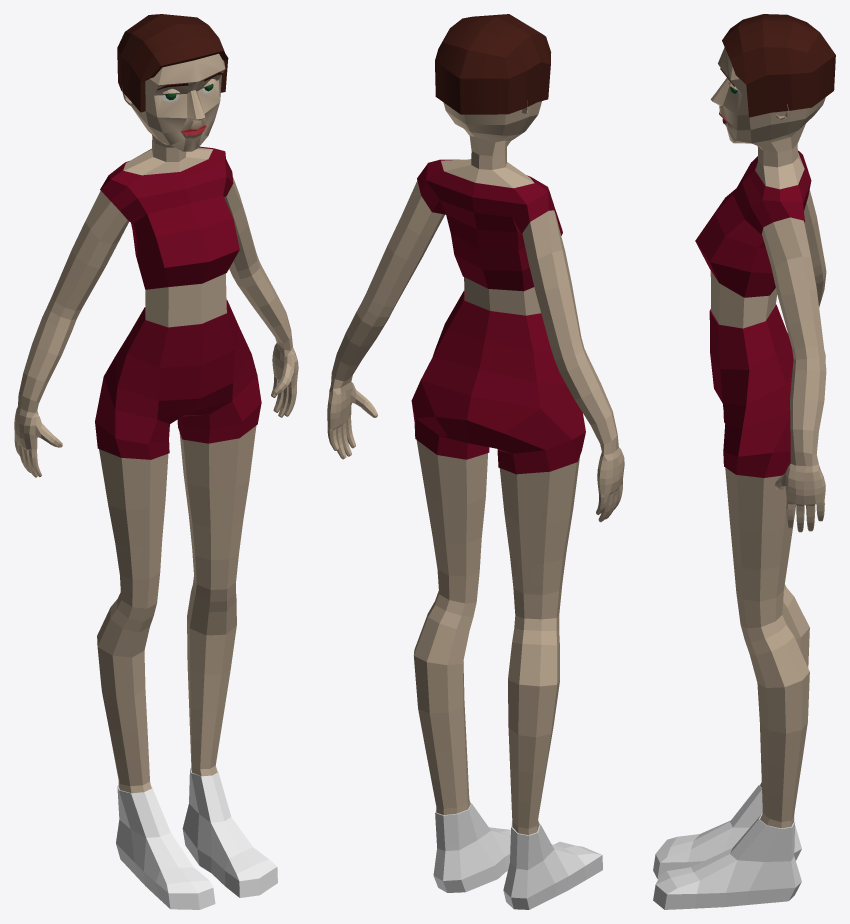
The model's file is Düz_Kadın.fbx.
The picture shows the model from 3 angles, left to right: view 1: azimuth 30°, elevation 25°; view 2: azimuth 150°, elevation 25°; view 3: azimuth 270°, elevation 25°; orthographic projection. The views are drawn at different scales.
Visible parts, largest first — view 1: Character, Char_Clothes1.A, Char_Shoes, Char_Hair.short; view 2: Character, Char_Clothes1.A, Char_Shoes, Char_Hair.short; view 3: Character, Char_Clothes1.A, Char_Shoes, Char_Hair.short.
Boxes of the visible parts, left/top/right/bottom form: Character: left=14, top=53, right=298, bottom=793; Char_Clothes1.A: left=95, top=146, right=261, bottom=459; Char_Shoes: left=116, top=768, right=277, bottom=909; Char_Hair.short: left=117, top=14, right=228, bottom=112; Character: left=327, top=100, right=624, bottom=835; Char_Clothes1.A: left=411, top=159, right=585, bottom=474; Char_Shoes: left=433, top=803, right=602, bottom=909; Char_Hair.short: left=435, top=14, right=551, bottom=114; Character: left=710, top=47, right=826, bottom=828; Char_Clothes1.A: left=695, top=150, right=811, bottom=477; Char_Shoes: left=653, top=784, right=801, bottom=909; Char_Hair.short: left=722, top=14, right=835, bottom=117.
Size of the model in its own units: 55 by 161 by 30.89.
